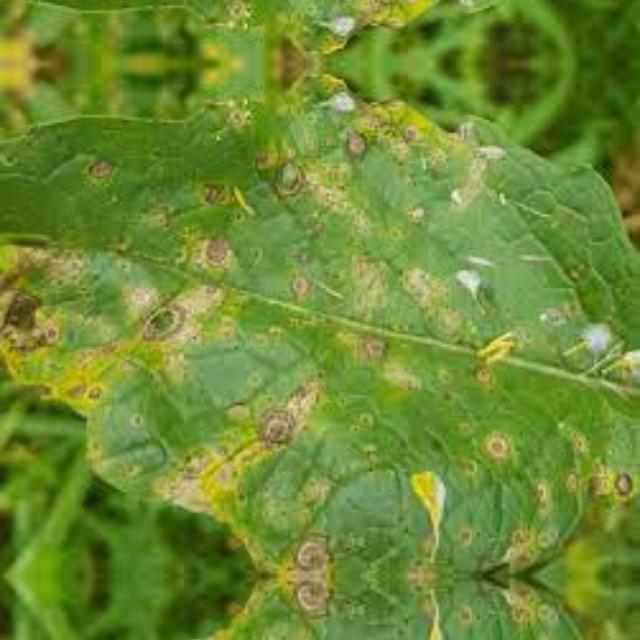Lettuce - Anthracnose: (6, 86, 640, 572), (6, 579, 640, 640), (6, 0, 640, 39)
